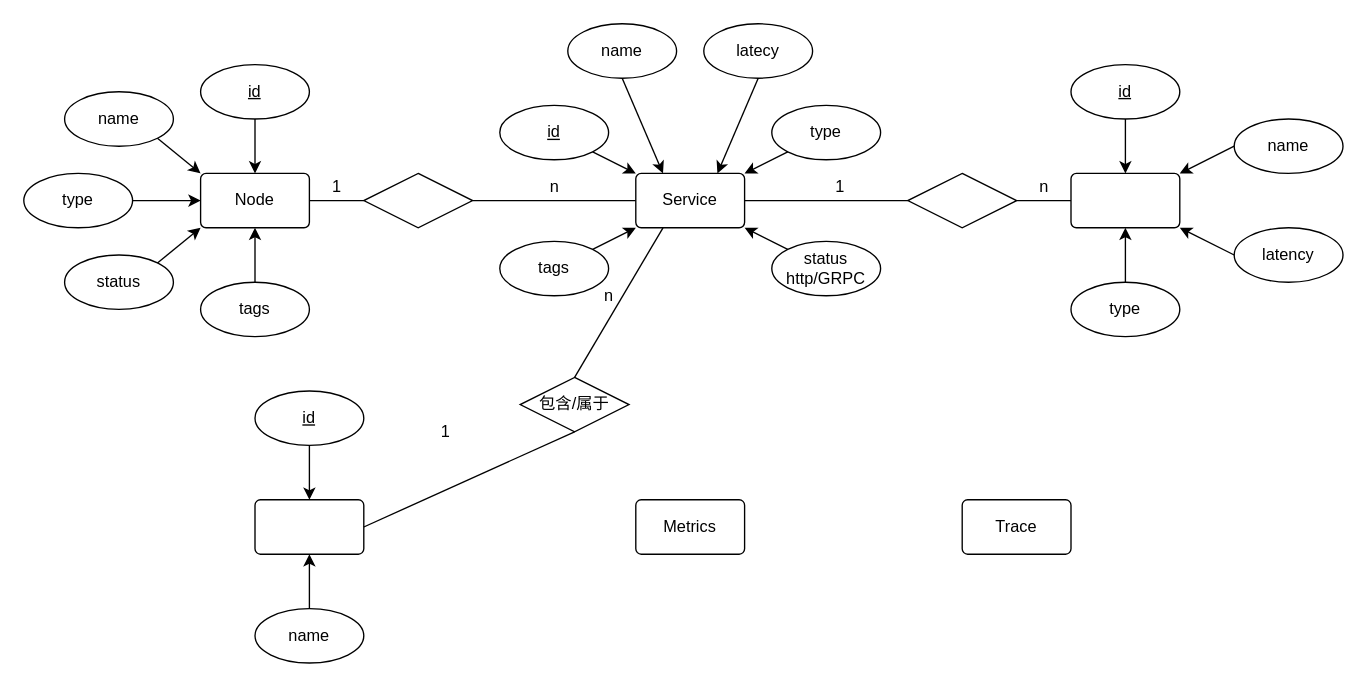
The diagram is 1367 pixels wide and 687 high, and some of its shapes have lost their labels. The box of each missing label's shape, as (x1, y1, x2, y2) in pixels:
EndPoint: (1070, 172, 1180, 228)
ServiceGroup: (254, 498, 364, 554)
拥有: (906, 172, 1017, 228)
部署于/部署: (362, 172, 473, 228)
